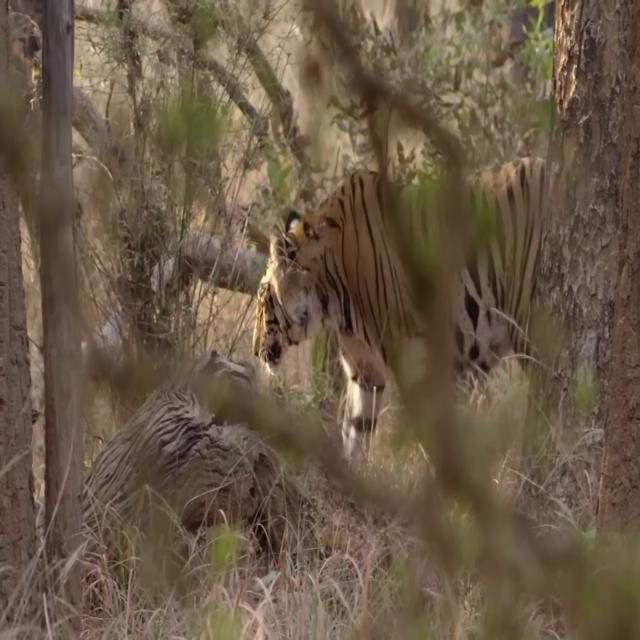tiger: (252, 155, 567, 459)
